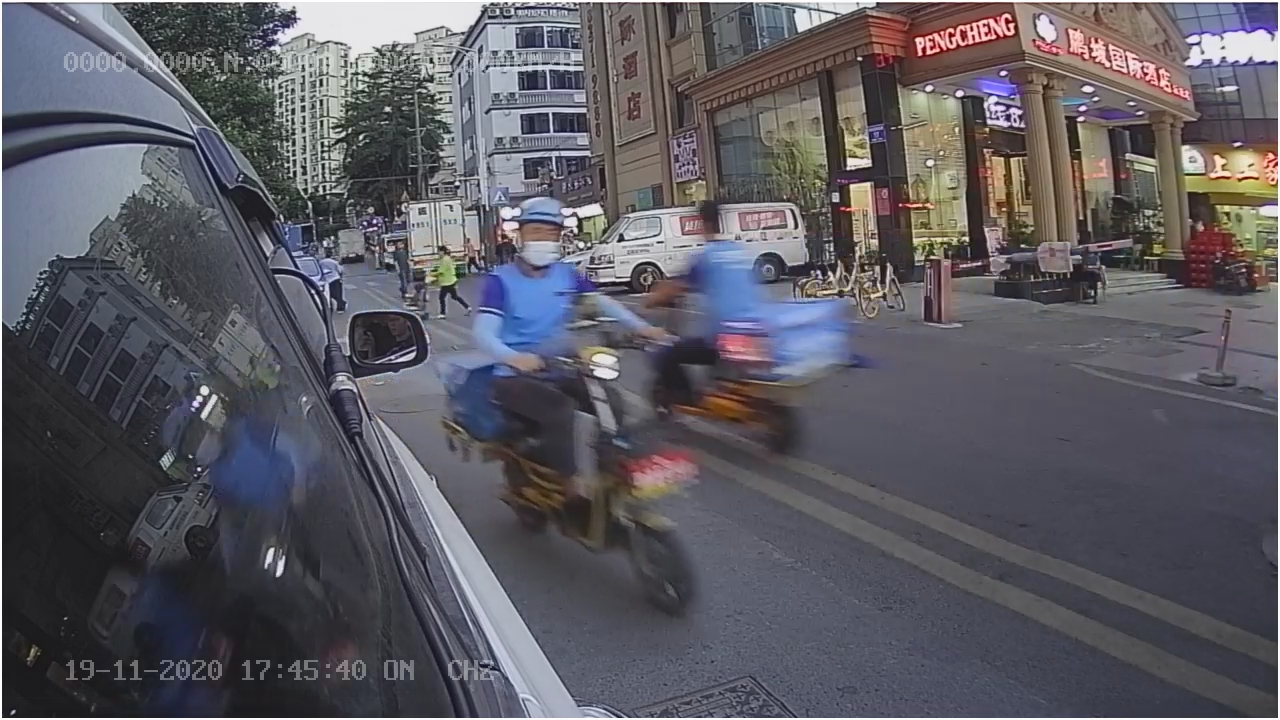person: (481, 196, 612, 364)
